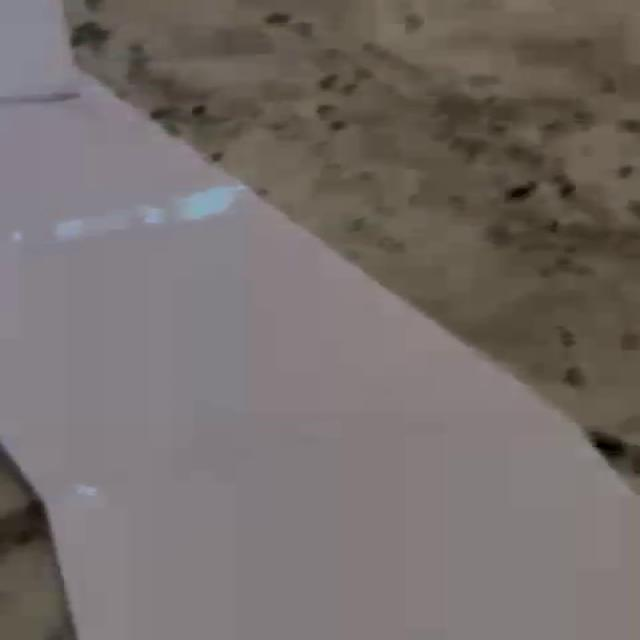road: (0, 0, 637, 640)
